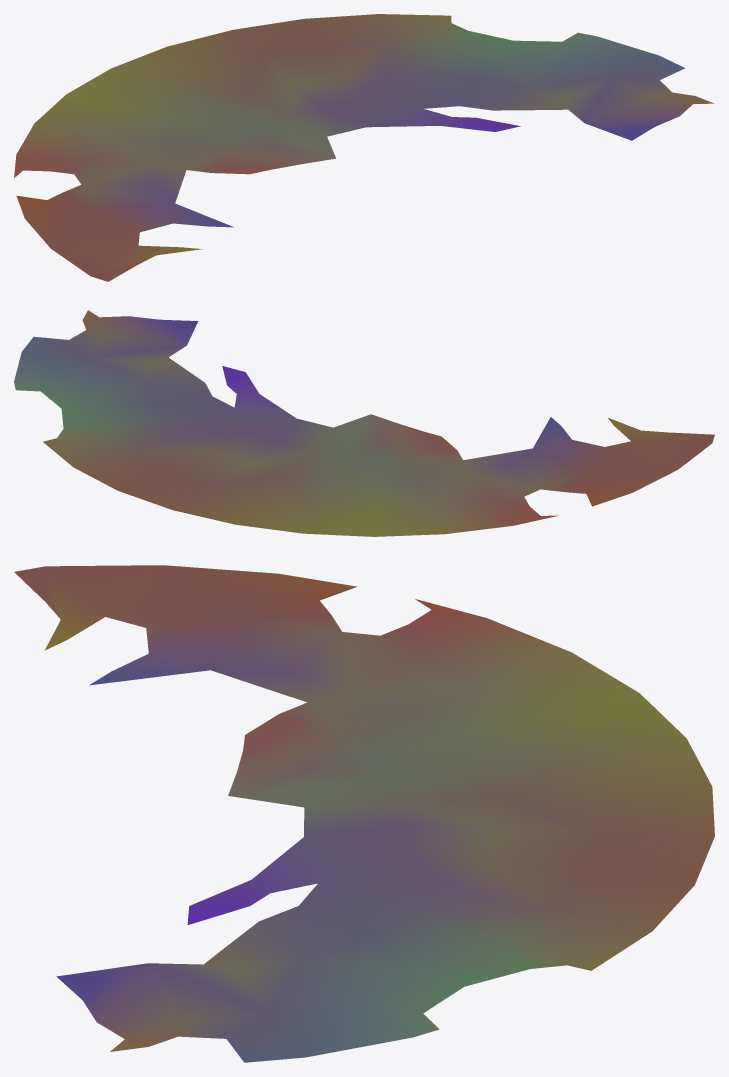
The model's file is space-galaxies-irregular-galaxy_v2.glb.
3 renders of one model, top to bottom at view 1: azimuth 30°, elevation 25°; view 2: azimuth 150°, elevation 25°; view 3: azimuth 270°, elevation 25°, orthographic. The views are drawn at different scales.
Parts seen in each view (by area): view 1: Irregular Galaxy_v2; view 2: Irregular Galaxy_v2; view 3: Irregular Galaxy_v2.
Boxes of the visible parts, x1,y1,x2,y2 form: Irregular Galaxy_v2: (14, 14, 714, 281); Irregular Galaxy_v2: (14, 310, 714, 536); Irregular Galaxy_v2: (14, 565, 714, 1062).
Size of the model in its own units: 0.5 by 8.21e-08 by 0.2977.
